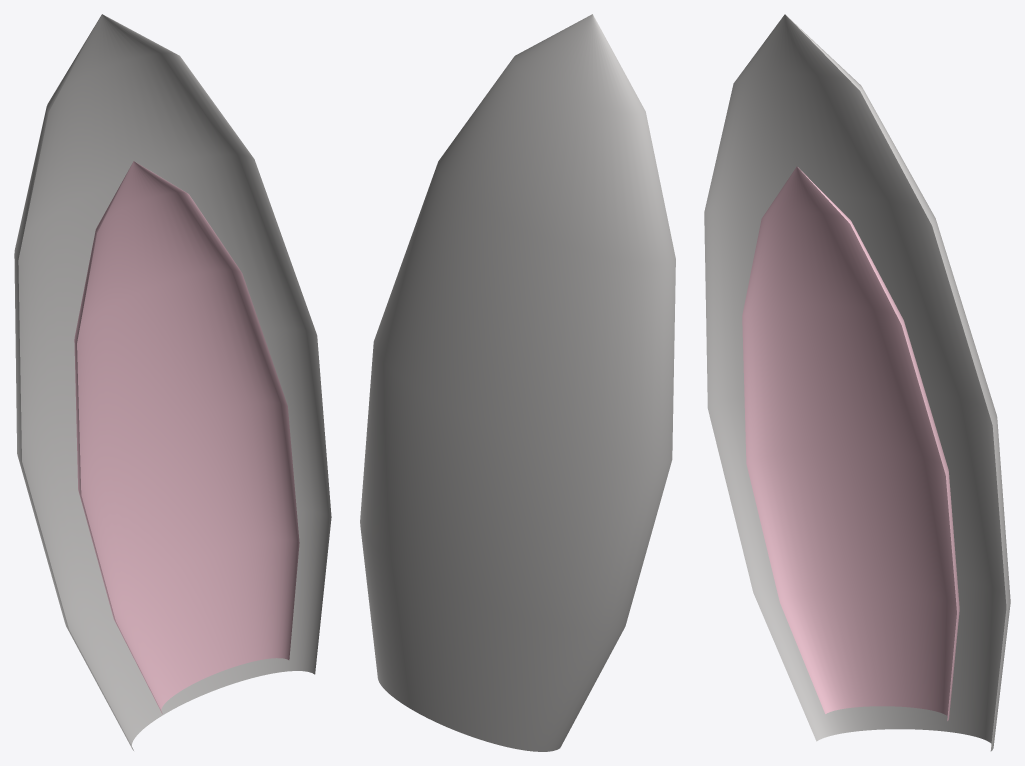
File: bunny_ear_r.glb
The picture shows the model from 3 angles, left to right: view 1: azimuth 30°, elevation 25°; view 2: azimuth 150°, elevation 25°; view 3: azimuth 330°, elevation 25°; orthographic projection. The views are drawn at different scales.
Bounding box in the file's own units: 0.0376 × 0.0856 × 0.0101.
